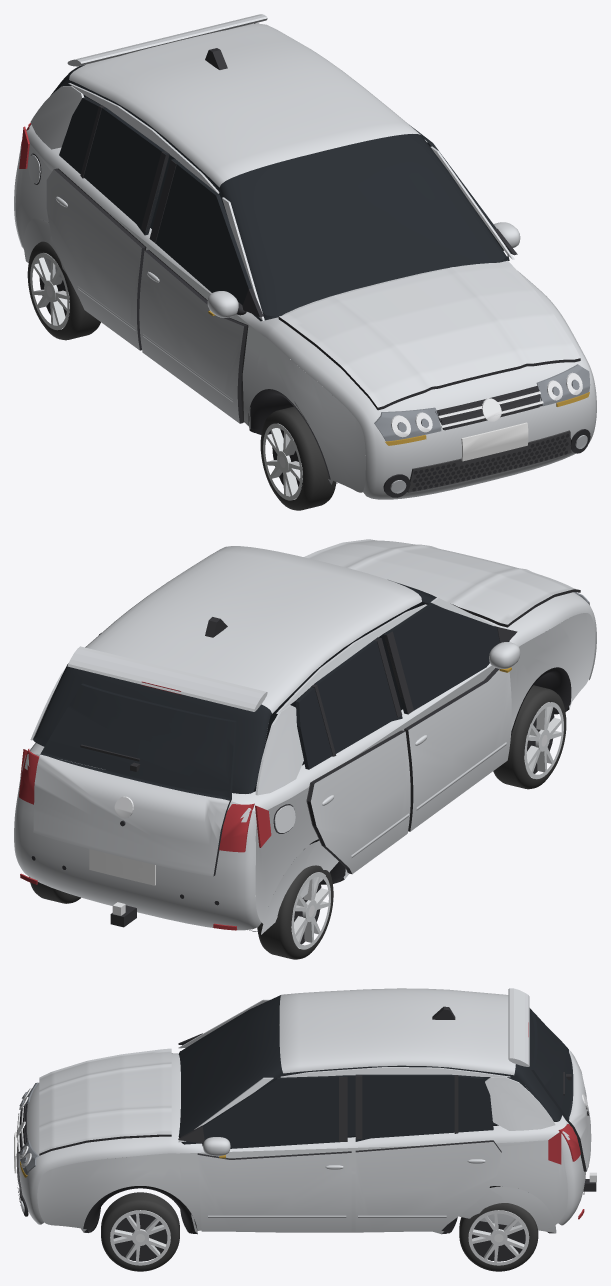
Rendered from fox.glb.
The picture shows the model from 3 angles, top to bottom: view 1: azimuth 30°, elevation 25°; view 2: azimuth 150°, elevation 25°; view 3: azimuth 270°, elevation 25°; orthographic projection. The views are drawn at different scales.
Parts seen in each view (by area): view 1: body, hood, door_fr, door_rr, wheel_fr, wheel_rr, lamp_head_r, tailgate, lamp_head_l, door_fl; view 2: body, tailgate, door_fr, door_rr, hood, wheel_fr, wheel_rr, lamp_tail_r, lamp_tail_l, wheel_rl; view 3: body, door_fl, door_rl, hood, tailgate, wheel_fl, wheel_rl, lamp_tail_l, lamp_head_l.
Boxes of the visible parts, bbox=[...] form: body: bbox=[14, 23, 596, 499]; hood: bbox=[278, 260, 580, 410]; door_fr: bbox=[139, 159, 263, 423]; door_rr: bbox=[46, 97, 169, 350]; wheel_fr: bbox=[260, 406, 336, 510]; wheel_rr: bbox=[27, 241, 100, 340]; lamp_head_r: bbox=[374, 407, 441, 441]; tailgate: bbox=[67, 14, 267, 66]; lamp_head_l: bbox=[536, 364, 590, 406]; door_fl: bbox=[411, 126, 520, 255]; body: bbox=[14, 546, 596, 934]; tailgate: bbox=[33, 646, 267, 876]; door_fr: bbox=[383, 603, 520, 831]; door_rr: bbox=[295, 637, 410, 874]; hood: bbox=[304, 539, 580, 627]; wheel_fr: bbox=[493, 685, 566, 789]; wheel_rr: bbox=[257, 865, 333, 959]; lamp_tail_r: bbox=[219, 803, 271, 852]; lamp_tail_l: bbox=[19, 749, 39, 804]; wheel_rl: bbox=[29, 877, 80, 903]; body: bbox=[14, 988, 596, 1234]; door_fl: bbox=[178, 1075, 351, 1231]; door_rl: bbox=[355, 1074, 501, 1231]; hood: bbox=[39, 1048, 171, 1155]; tailgate: bbox=[508, 988, 591, 1171]; wheel_fl: bbox=[101, 1192, 179, 1271]; wheel_rl: bbox=[459, 1203, 538, 1271]; lamp_tail_l: bbox=[548, 1124, 580, 1164]; lamp_head_l: bbox=[19, 1140, 38, 1174].
Bounding box in the file's own units: 1.86 × 1.64 × 4.01.
